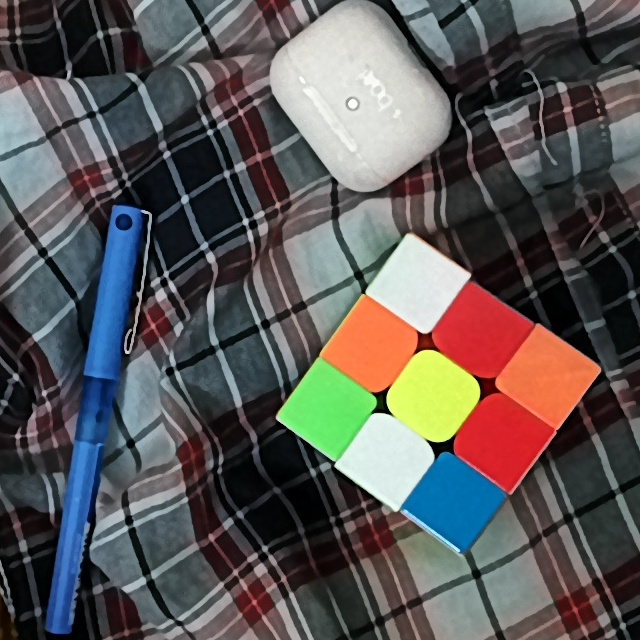tile: (407, 366, 461, 427), (454, 304, 508, 363), (519, 351, 575, 406), (476, 411, 528, 467), (344, 321, 399, 371), (427, 475, 477, 530), (360, 432, 410, 482), (299, 389, 352, 436), (389, 262, 443, 308)
